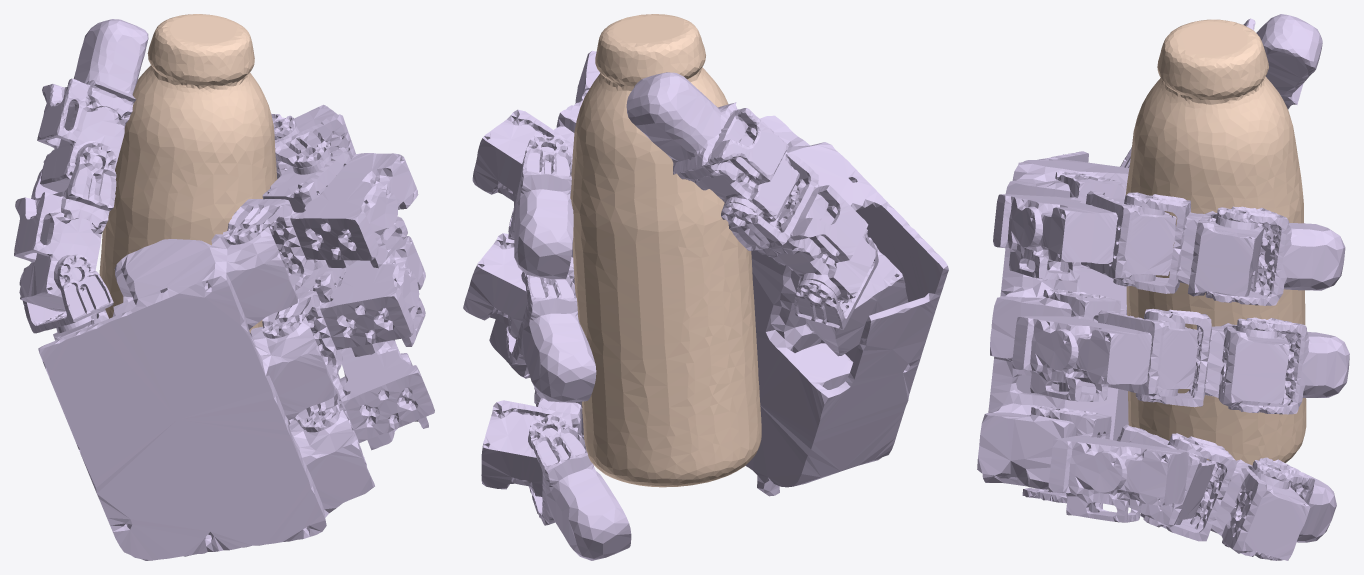
The model's file is 13ede7f1411b61-final.glb.
3 renders of one model, left to right at view 1: azimuth 30°, elevation 25°; view 2: azimuth 150°, elevation 25°; view 3: azimuth 270°, elevation 25°, orthographic. The views are drawn at different scales.
Parts seen in each view (by area): view 1: LEAP_hand, world; view 2: LEAP_hand, world; view 3: LEAP_hand, world.
Boxes of the visible parts, left/top/right/bottom form: LEAP_hand: left=14, top=19, right=434, bottom=560; world: left=99, top=14, right=277, bottom=332; LEAP_hand: left=463, top=50, right=948, bottom=560; world: left=570, top=14, right=761, bottom=487; LEAP_hand: left=977, top=14, right=1349, bottom=560; world: left=1125, top=19, right=1306, bottom=465.
Bounding box in the file's own units: 0.1851 × 0.2105 × 0.1427.
